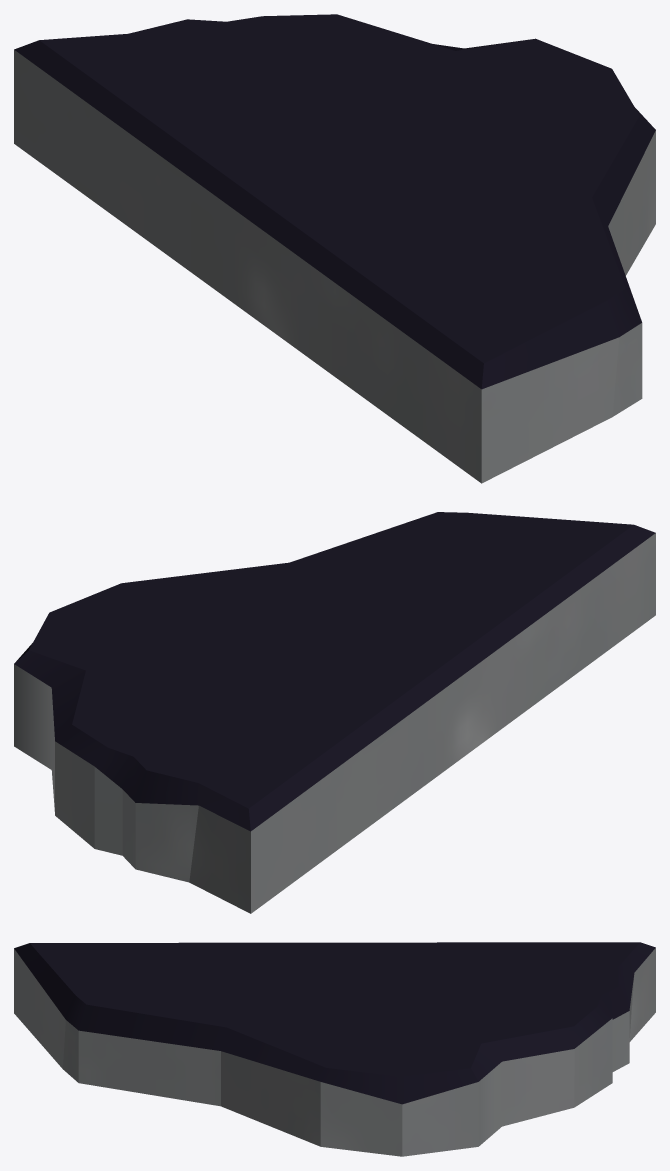
The model's file is rock 1.fbx.
3 renders of one model, top to bottom at view 1: azimuth 30°, elevation 25°; view 2: azimuth 150°, elevation 25°; view 3: azimuth 270°, elevation 25°, orthographic. The views are drawn at different scales.
Parts seen in each view (by area): view 1: Rockobj; view 2: Rockobj; view 3: Rockobj.
Part boxes in pixels (x1,y1,x2,y2): Rockobj: [14, 14, 655, 483]; Rockobj: [14, 512, 655, 913]; Rockobj: [14, 942, 655, 1156].
Bounding box in the file's own units: 1343 × 325 × 2525.
